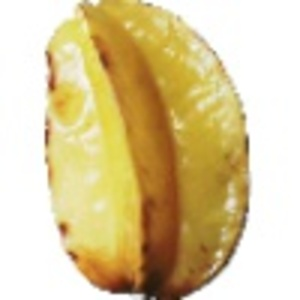carambola: (44, 1, 253, 300)
